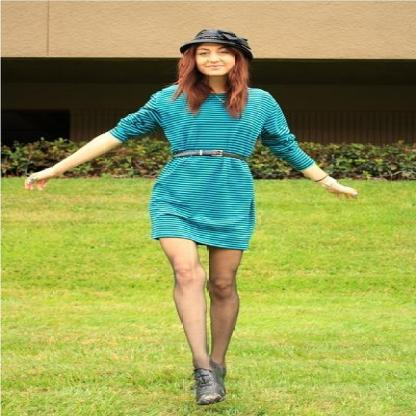dress: (116, 84, 314, 249)
hat: (213, 32, 250, 60)
shoe: (191, 360, 226, 412)
